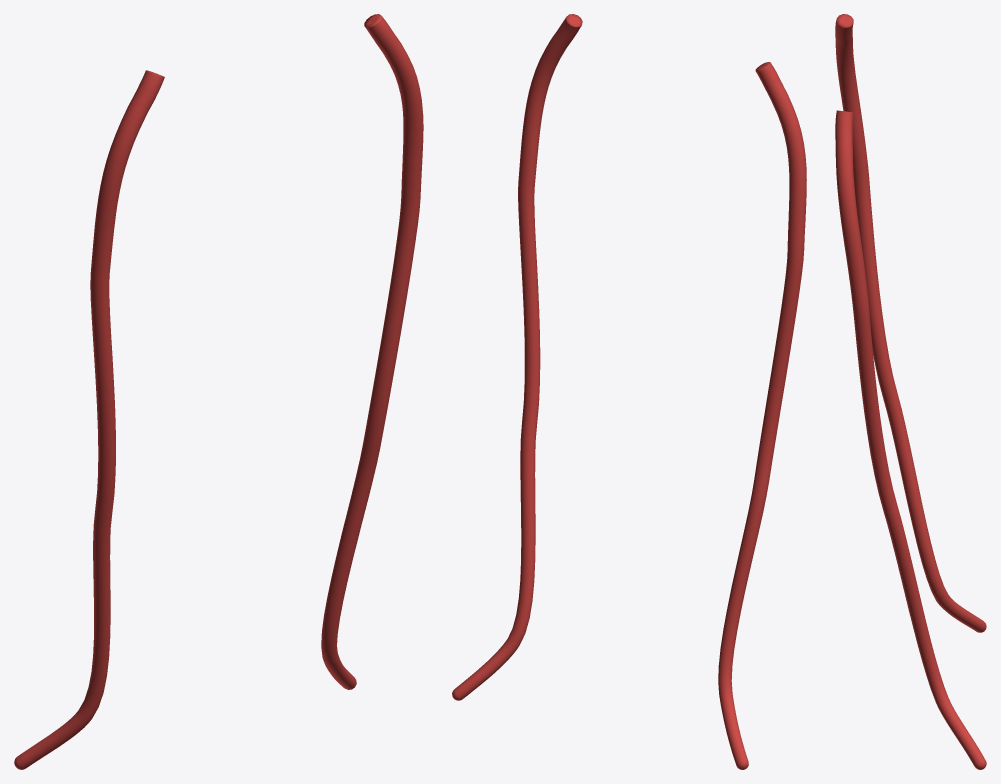
Rendered from femoral_artery_female.glb.
3 renders of one model, left to right at view 1: azimuth 30°, elevation 25°; view 2: azimuth 150°, elevation 25°; view 3: azimuth 270°, elevation 25°, orthographic. The views are drawn at different scales.
Parts seen in each view (by area): view 1: Femoral artery.r, Femoral artery.l; view 2: Femoral artery.l, Femoral artery.r; view 3: Femoral artery.l, Femoral artery.r.
Part boxes in pixels (x1,y1,x2,y2): Femoral artery.r: (14, 70, 164, 769); Femoral artery.l: (321, 14, 423, 689); Femoral artery.l: (452, 14, 582, 700); Femoral artery.r: (718, 62, 806, 769); Femoral artery.l: (835, 110, 986, 769); Femoral artery.r: (835, 14, 986, 632).
Size of the model in its own units: 0.154 by 0.3215 by 0.069.
